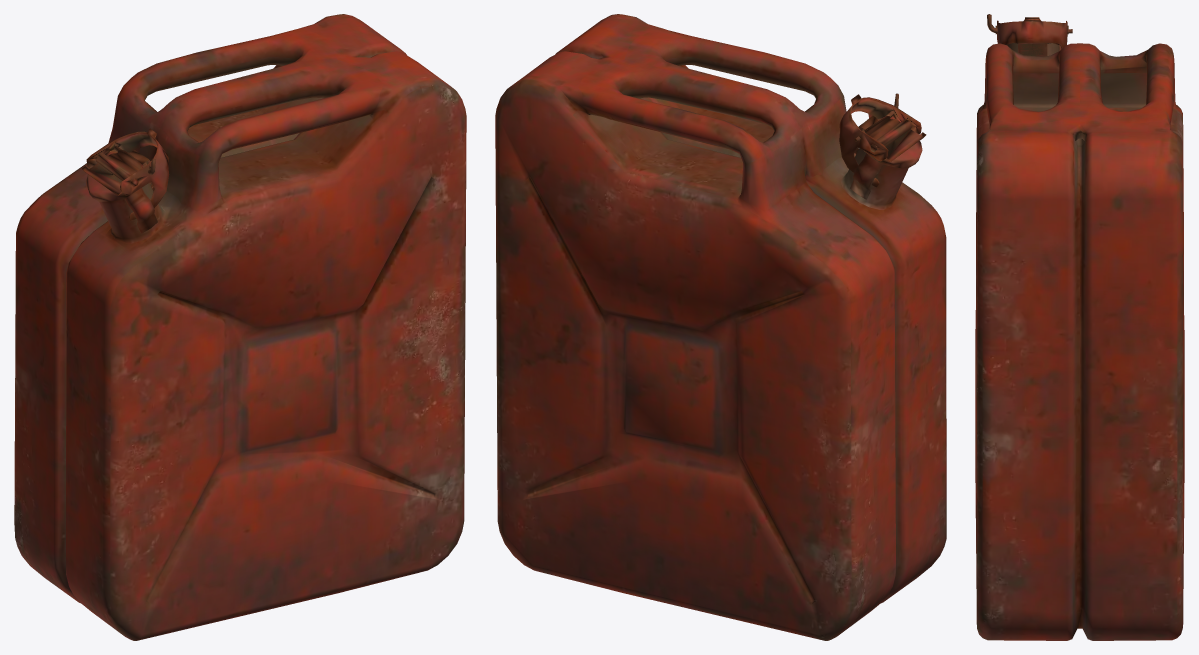
Rendered from item-fuel.glb.
The picture shows the model from 3 angles, left to right: view 1: azimuth 30°, elevation 25°; view 2: azimuth 150°, elevation 25°; view 3: azimuth 270°, elevation 25°; orthographic projection. The views are drawn at different scales.
Visible parts, largest first — view 1: metal_jerrycan; view 2: metal_jerrycan; view 3: metal_jerrycan.
Boxes of the visible parts, x1,y1,x2,y2 form: metal_jerrycan: (14, 14, 466, 640); metal_jerrycan: (495, 14, 946, 640); metal_jerrycan: (975, 14, 1184, 640).
Size of the model in its own units: 0.35 by 0.4548 by 0.1718.
1 material, 1 textured.
